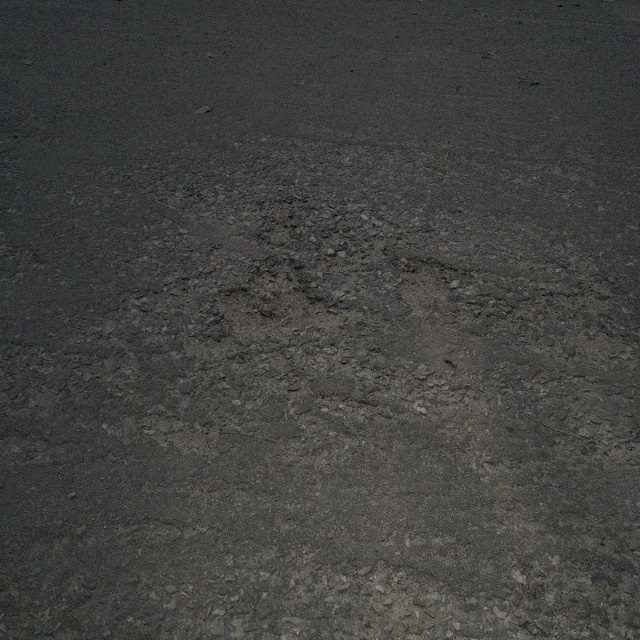pothole: (204, 256, 340, 338), (391, 258, 453, 316)
